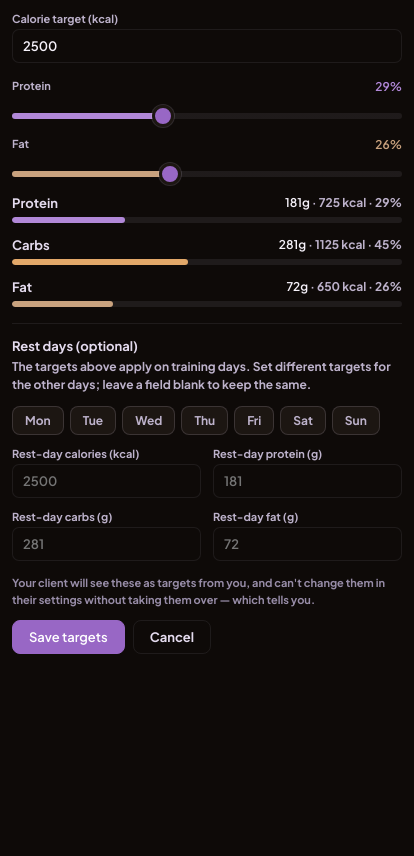
Test: TargetsForm — rest days › explains a half-finished setup instead of saving it
In the number field labelled "Rest-day calories (kcal)": coordinates (106, 481) left=12, top=464, right=201, bottom=498, type "1800"
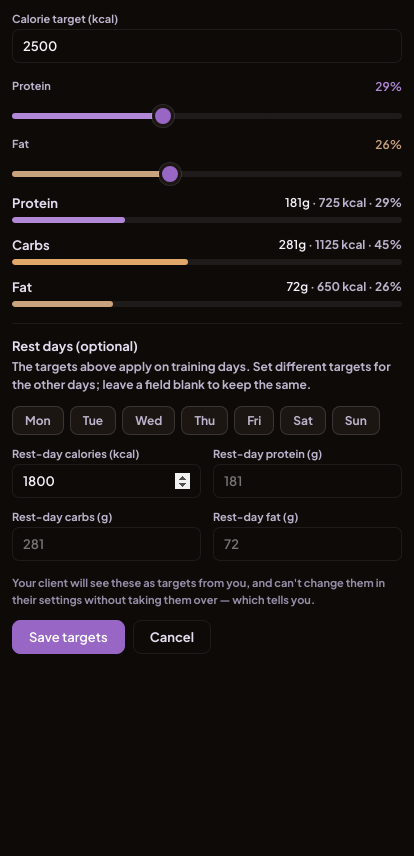
Click the button "Save targets": coordinates (68, 637) left=12, top=620, right=125, bottom=654
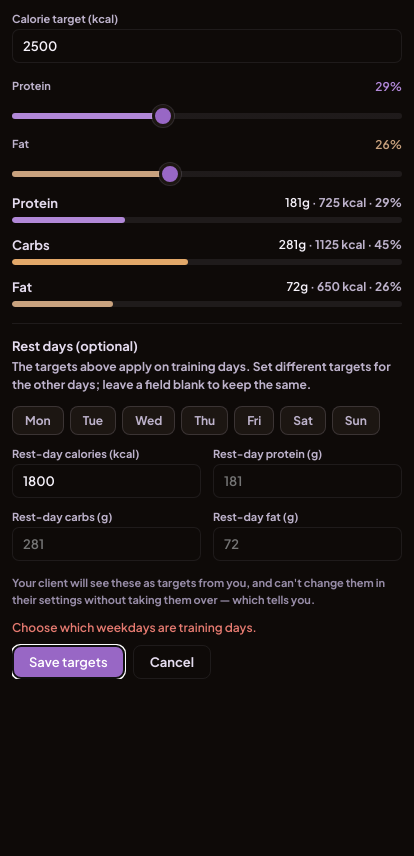
Now the message shows "Choose which weekdays are training days", box left=12, top=620, right=257, bottom=635
